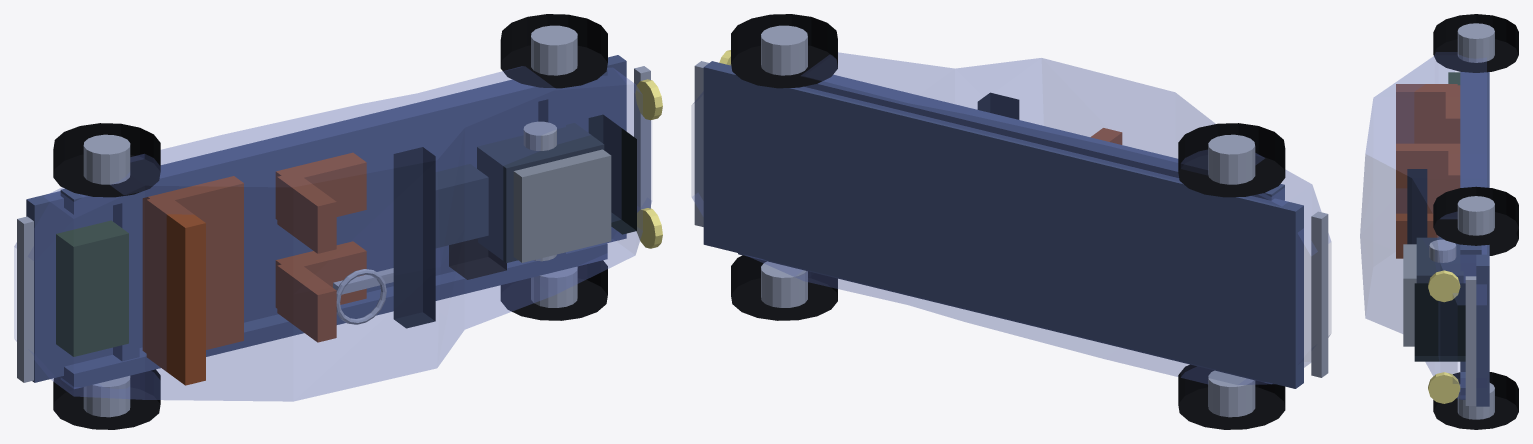
The model's file is peugeot-304-xray.obj.
3 renders of one model, left to right at view 1: azimuth 30°, elevation 25°; view 2: azimuth 150°, elevation 25°; view 3: azimuth 270°, elevation 25°, orthographic. The views are drawn at different scales.
Parts seen in each view (by area): view 1: transparent_body_shell, floor_pan, right_sill, rear_backrest, cylinder_head, fuel_tank, rear_bench, left_sill, dashboard, engine_block, rear_right_tyre, front_right_tyre (+21 smaller); view 2: floor_pan, transparent_body_shell, right_sill, rear_right_tyre, front_right_tyre, rear_left_tyre, front_left_tyre, rear_bumper, rear_right_hub, front_right_hub, rear_left_hub, front_left_hub (+3 smaller); view 3: transparent_body_shell, rear_backrest, radiator, floor_pan, front_right_tyre, rear_right_tyre, right_sill, front_left_tyre, passenger_seat_back, headlamp, front_bumper, dashboard (+12 smaller).
Part boxes in pixels (x1,y1,x2,y2): transparent_body_shell: (14,66,651,401); floor_pan: (26,55,626,382); right_sill: (60,69,607,214); rear_backrest: (146,195,205,385); cylinder_head: (513,149,611,262); fuel_tank: (56,220,128,356); rear_bench: (142,176,243,353); left_sill: (60,242,607,388); dashboard: (393,147,435,328); engine_block: (477,123,604,262); rear_right_tyre: (53,123,160,197); front_right_tyre: (500,14,607,88); floor_pan: (703,61,1303,388); transparent_body_shell: (692,52,1331,384); right_sill: (804,74,1284,200); rear_right_tyre: (1178,123,1285,197); front_right_tyre: (731,14,837,88); rear_left_tyre: (1178,364,1285,429); front_left_tyre: (731,255,837,320); rear_bumper: (1311,211,1328,377); rear_right_hub: (1208,134,1255,184); front_right_hub: (761,25,807,75); rear_left_hub: (1208,370,1255,417); front_left_hub: (761,261,807,307); transparent_body_shell: (1360,52,1486,398); rear_backrest: (1396,84,1457,213); radiator: (1414,283,1465,361); floor_pan: (1476,72,1489,406); front_right_tyre: (1433,186,1518,245); rear_right_tyre: (1433,14,1518,72); right_sill: (1460,72,1481,261); front_left_tyre: (1433,372,1518,429); passenger_seat_back: (1396,143,1460,188); headlamp: (1428,270,1460,403); front_bumper: (1465,276,1476,405); dashboard: (1407,169,1427,244).
Size of the model in its own units: 4.29 by 1.73 by 1.19.
